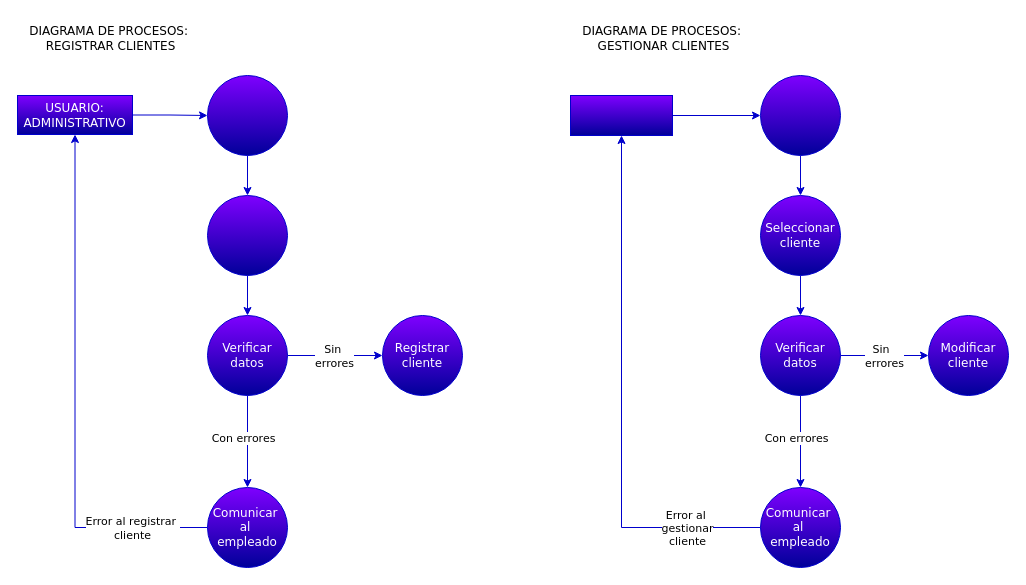
This 1026x585 diagram has some shape labels left out. Here are the shapes that lost their labels. From the top down, the centre of each, then its label:
At pixel 247 115: "Recopilar datos".
At pixel 621 115: "USUARIO: VENDEDOR".
At pixel 800 115: "Listar clientes".
At pixel 247 235: "llenar campos requeridos".
